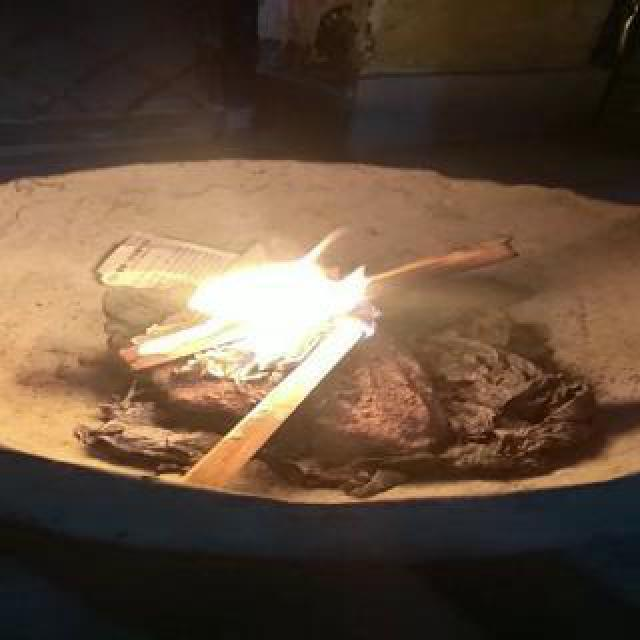Fire: (126, 222, 408, 392)
